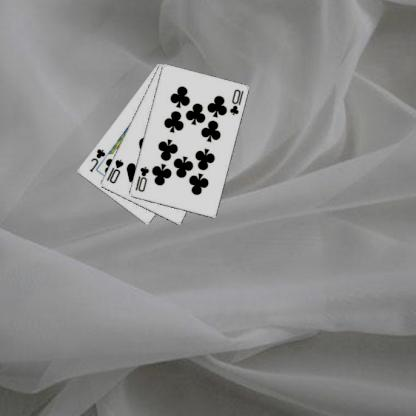10C: (134, 164, 152, 193), (229, 87, 246, 116)
10S: (106, 156, 126, 185)
JC: (88, 146, 108, 174)
